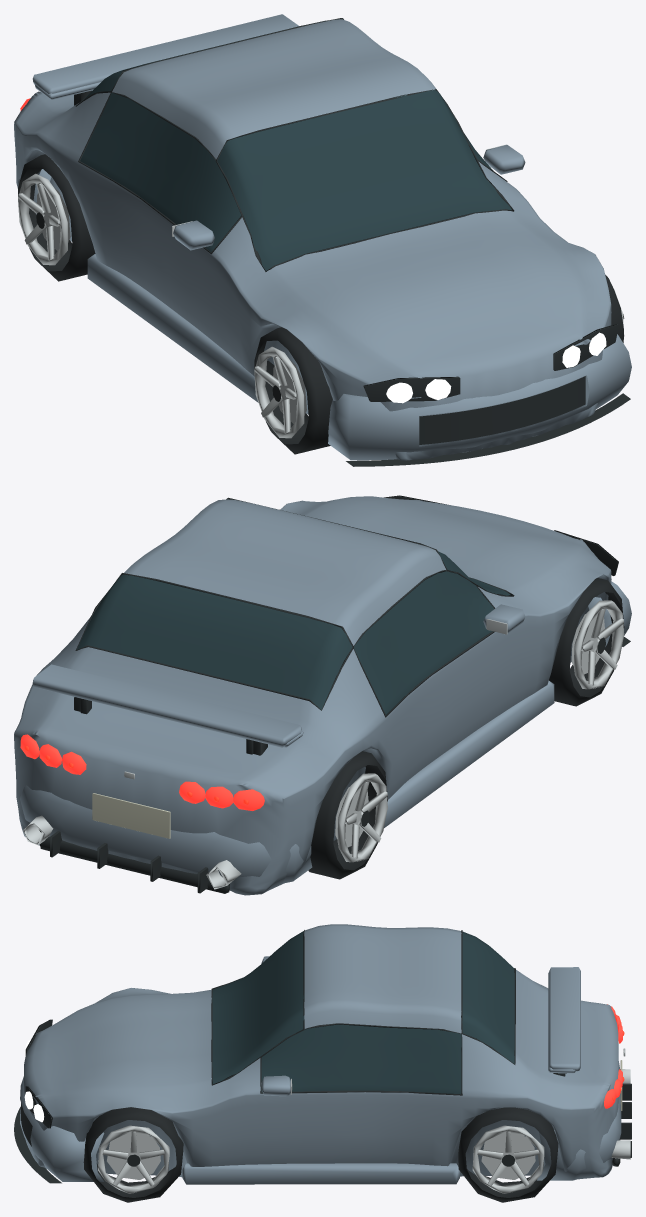
Rendered from orvane-tessil.glb.
3 views of the same model, one above another, from view 1: azimuth 30°, elevation 25°; view 2: azimuth 150°, elevation 25°; view 3: azimuth 270°, elevation 25° (orthographic). The views are drawn at different scales.
Visible parts, largest first — view 1: cofano, cristallo_ant, scocca, tetto, cristallo_sx, porta_sx, paraurti_ant, minigonna_sx, griglia, spoiler, ruota_ant_sx_gomma, ruota_post_sx_gomma (+16 smaller); view 2: scocca, tetto, cristallo_post, portellone, cofano, porta_sx, cristallo_sx, paraurti_post, spoiler, minigonna_sx, ruota_post_sx_gomma, ruota_ant_sx_gomma (+14 smaller); view 3: scocca, tetto, cofano, porta_dx, cristallo_dx, cristallo_ant, portellone, minigonna_dx, cristallo_post, spoiler, ruota_post_dx_gomma, ruota_ant_dx_gomma (+13 smaller).
Boxes of the visible parts, left/top/right/bottom form: cofano: left=266, top=210, right=587, bottom=369; cristallo_ant: left=217, top=90, right=511, bottom=270; scocca: left=14, top=92, right=611, bottom=460; tetto: left=112, top=19, right=439, bottom=159; cristallo_sx: left=80, top=93, right=241, bottom=251; porta_sx: left=78, top=162, right=226, bottom=351; paraurti_ant: left=328, top=334, right=631, bottom=460; minigonna_sx: left=87, top=254, right=258, bottom=402; griglia: left=419, top=376, right=585, bottom=444; spoiler: left=32, top=14, right=299, bottom=93; ruota_ant_sx_gomma: left=254, top=327, right=332, bottom=454; ruota_post_sx_gomma: left=18, top=154, right=95, bottom=281; scocca: left=14, top=499, right=611, bottom=895; tetto: left=124, top=499, right=446, bottom=645; cristallo_post: left=77, top=574, right=352, bottom=709; portellone: left=29, top=647, right=321, bottom=788; cofano: left=301, top=496, right=587, bottom=596; porta_sx: left=364, top=627, right=517, bottom=799; cristallo_sx: left=354, top=571, right=494, bottom=714; paraurti_post: left=20, top=785, right=312, bottom=883; spoiler: left=32, top=664, right=301, bottom=747; minigonna_sx: left=384, top=680, right=554, bottom=827; ruota_post_sx_gomma: left=308, top=751, right=387, bottom=879; ruota_ant_sx_gomma: left=549, top=578, right=624, bottom=706; scocca: left=24, top=981, right=618, bottom=1179; tetto: left=304, top=924, right=461, bottom=1033; cofano: left=45, top=989, right=211, bottom=1100; porta_dx: left=246, top=1092, right=461, bottom=1176; cristallo_dx: left=261, top=1024, right=461, bottom=1094; cristallo_ant: left=212, top=931, right=304, bottom=1083; portellone: left=515, top=970, right=618, bottom=1091; minigonna_dx: left=182, top=1163, right=459, bottom=1184; cristallo_post: left=462, top=931, right=514, bottom=1063; spoiler: left=549, top=967, right=580, bottom=1071; ruota_post_dx_gomma: left=458, top=1107, right=558, bottom=1202; ruota_ant_dx_gomma: left=83, top=1107, right=183, bottom=1202.
Bounding box in the file's own units: 2.06 × 1.34 × 4.14.
